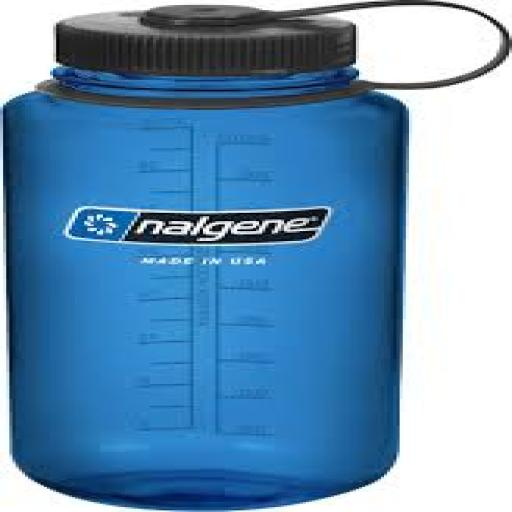blue-bottle: (6, 0, 506, 509)
